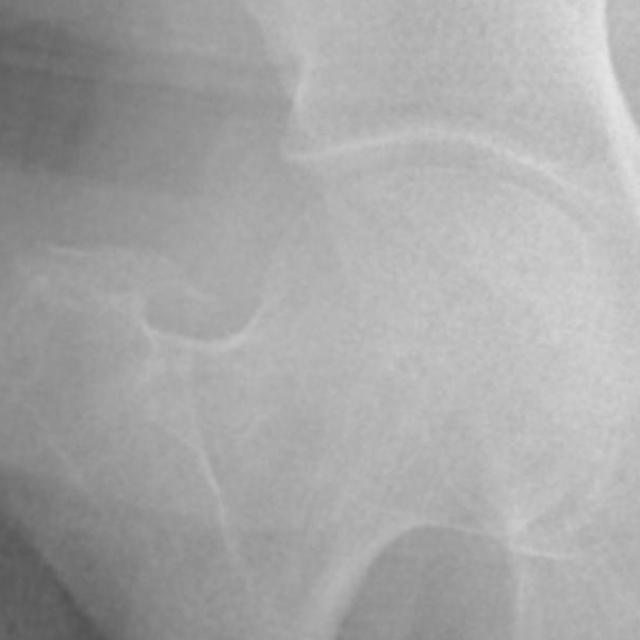Fitted_femural_head: (386, 165, 432, 386)
